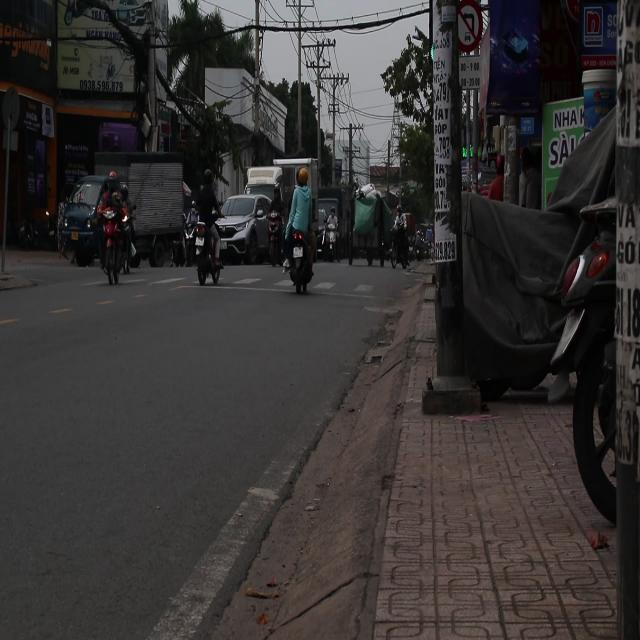car: (216, 194, 272, 264)
motorbike: (99, 209, 135, 287), (283, 226, 314, 294), (191, 216, 217, 292), (267, 206, 284, 266), (16, 212, 42, 249)
truck: (108, 159, 189, 269), (56, 175, 119, 268), (246, 162, 300, 212), (244, 168, 282, 205)
